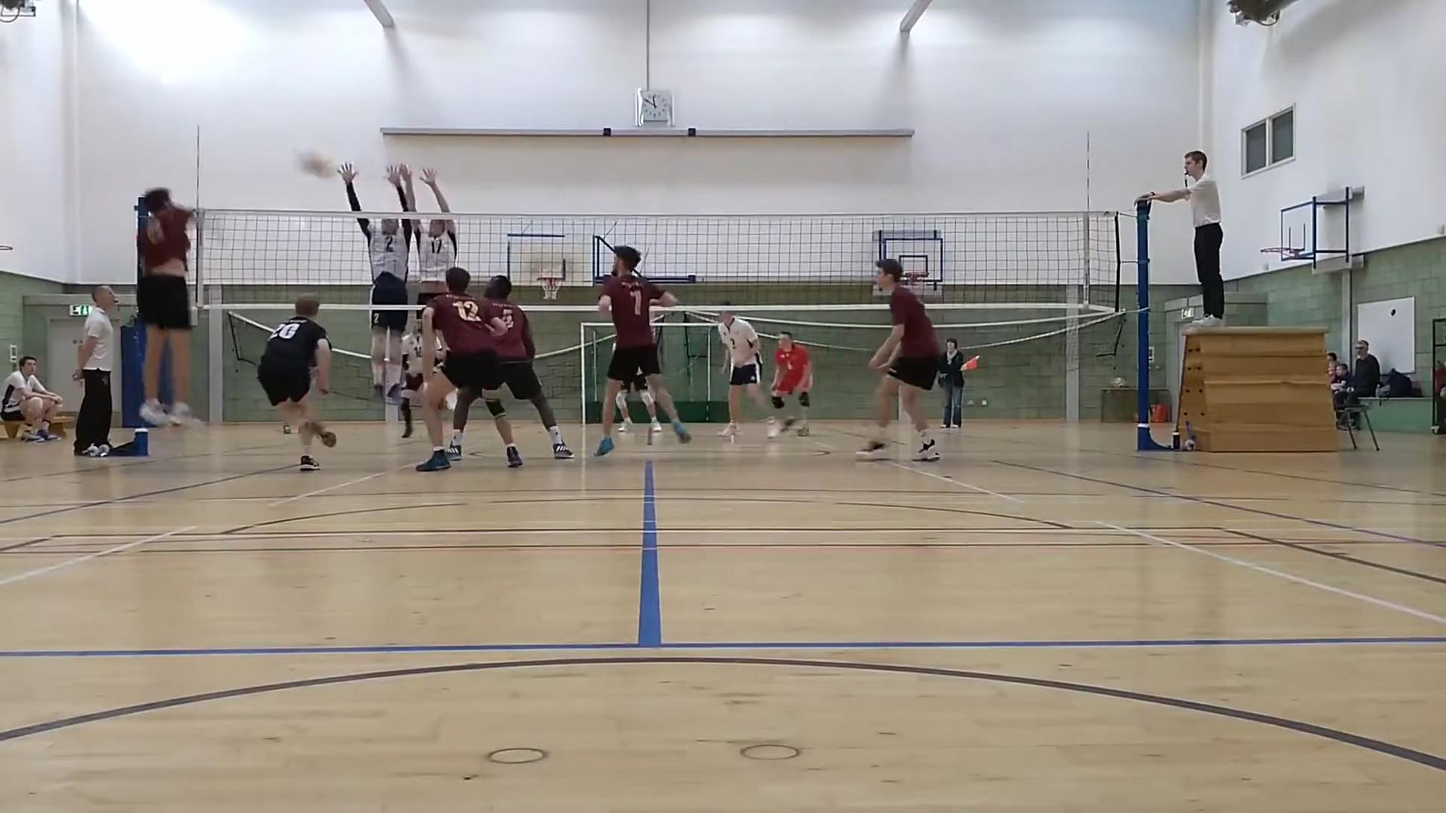attacco: (130, 179, 205, 434)
muro: (393, 152, 462, 407), (340, 162, 411, 402)
